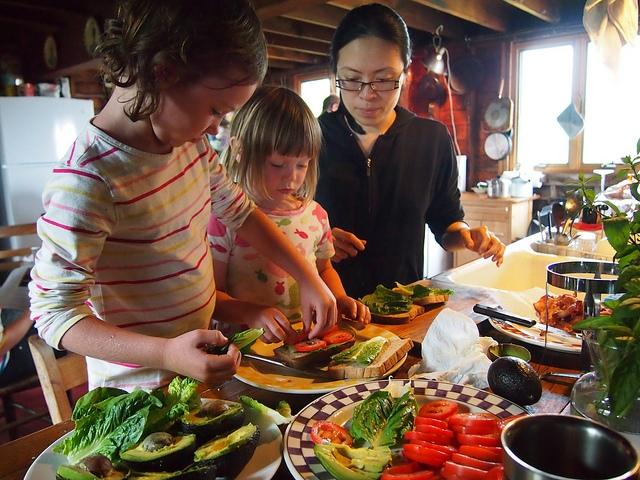avocado: (168, 400, 244, 446), (119, 432, 196, 473), (194, 422, 260, 469), (487, 356, 542, 406), (314, 444, 388, 474), (56, 454, 132, 480), (324, 442, 392, 464), (128, 465, 218, 480)
lettuce: (51, 390, 162, 468), (137, 375, 203, 443), (349, 390, 419, 448), (72, 387, 130, 422), (330, 336, 389, 366), (206, 328, 266, 356), (357, 285, 413, 314), (409, 284, 433, 298)
tomato: (311, 420, 354, 448), (452, 453, 499, 471), (445, 460, 488, 479), (404, 444, 452, 461), (458, 445, 503, 463), (401, 450, 446, 468), (418, 400, 458, 420), (448, 412, 496, 428), (457, 432, 502, 448), (383, 456, 420, 474), (404, 432, 450, 446), (381, 468, 434, 480), (414, 414, 451, 430), (450, 424, 498, 435), (460, 444, 503, 455), (323, 330, 353, 345), (294, 340, 326, 352), (481, 464, 505, 480)
